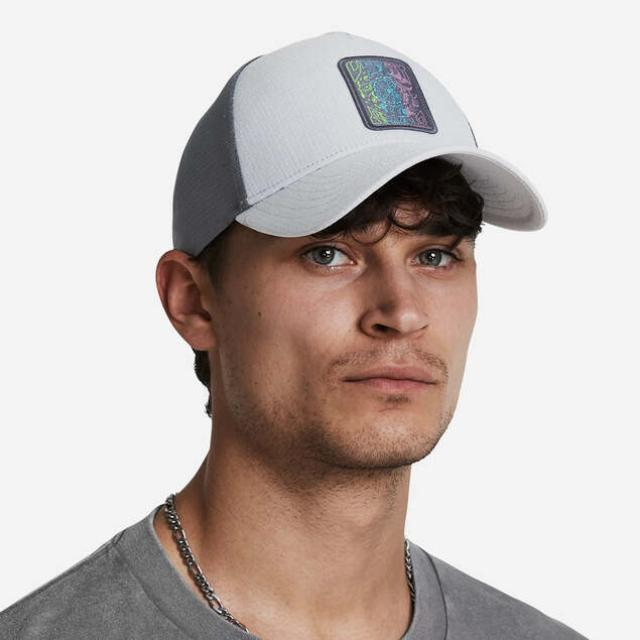Nonhelmet: (151, 28, 550, 476)
